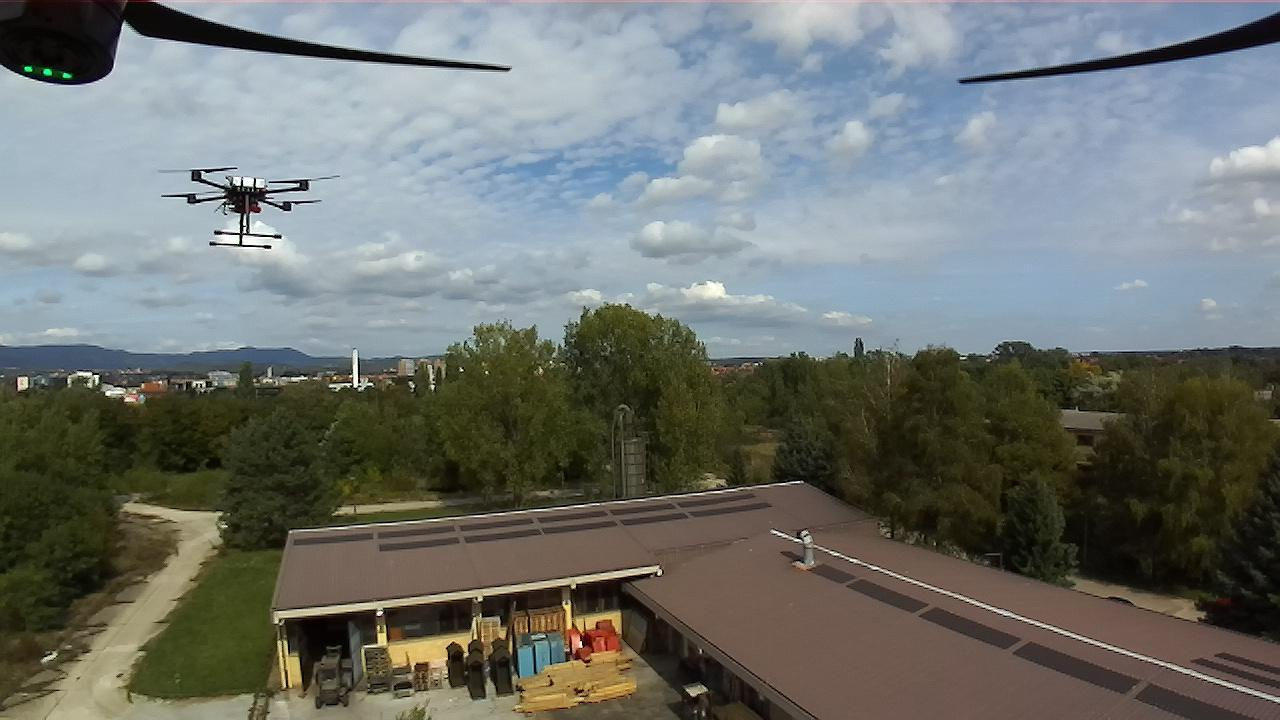drone: (162, 148, 336, 266)
